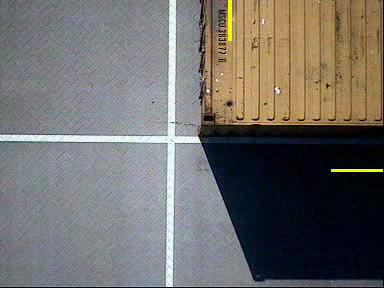groundmarker_2: (60, 186, 168, 262)
